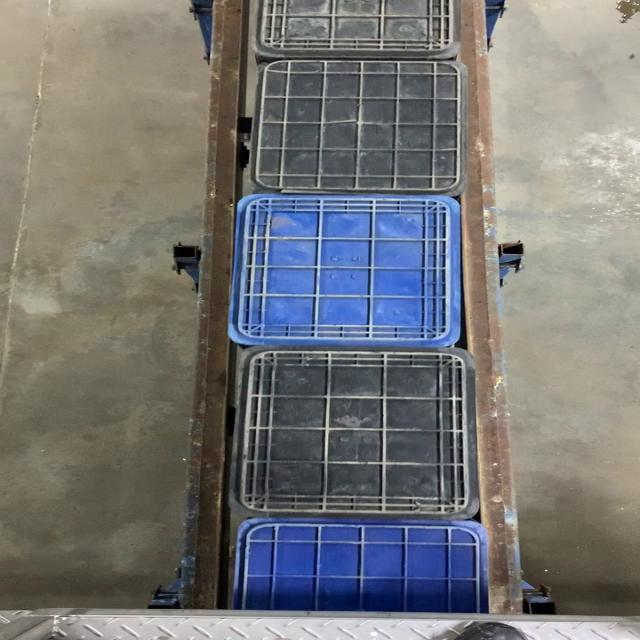Box: (228, 348, 478, 519), (229, 194, 463, 348), (248, 59, 468, 194)
